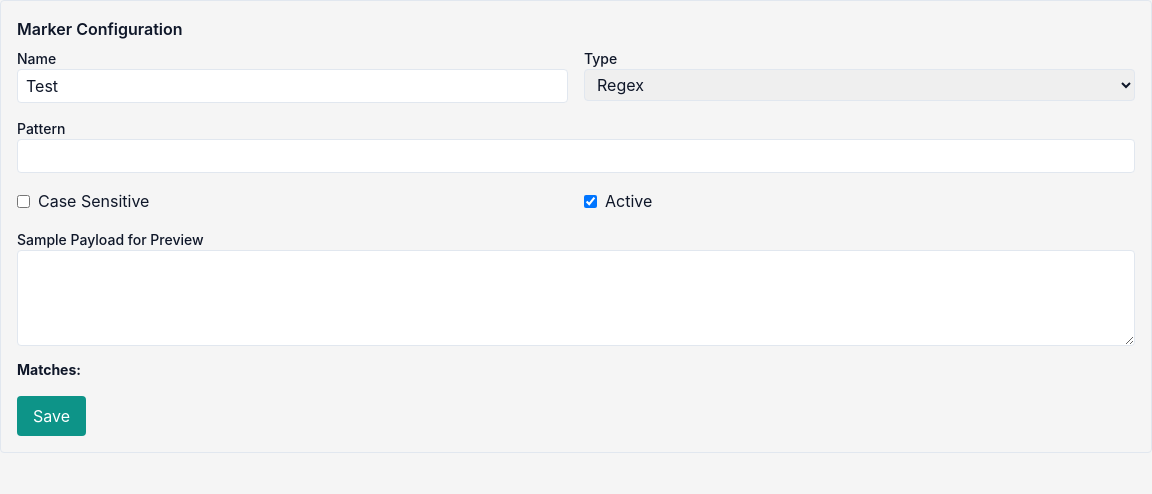
MarkerConfigForm validation › shows hex error for non-hex pattern and disables Save
# select hex type
Select "Hex" in the dropdown labelled "Type" at point(860, 85), box [584, 69, 1135, 101]
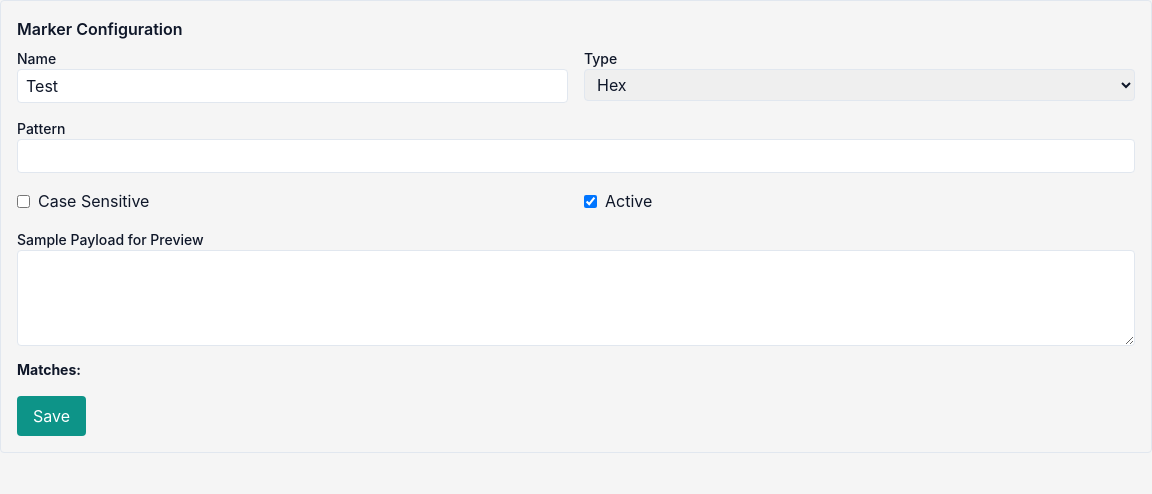
# enter invalid hex string
Type "GHI" into the field labelled "Pattern" at point(576, 156), box [17, 139, 1135, 173]
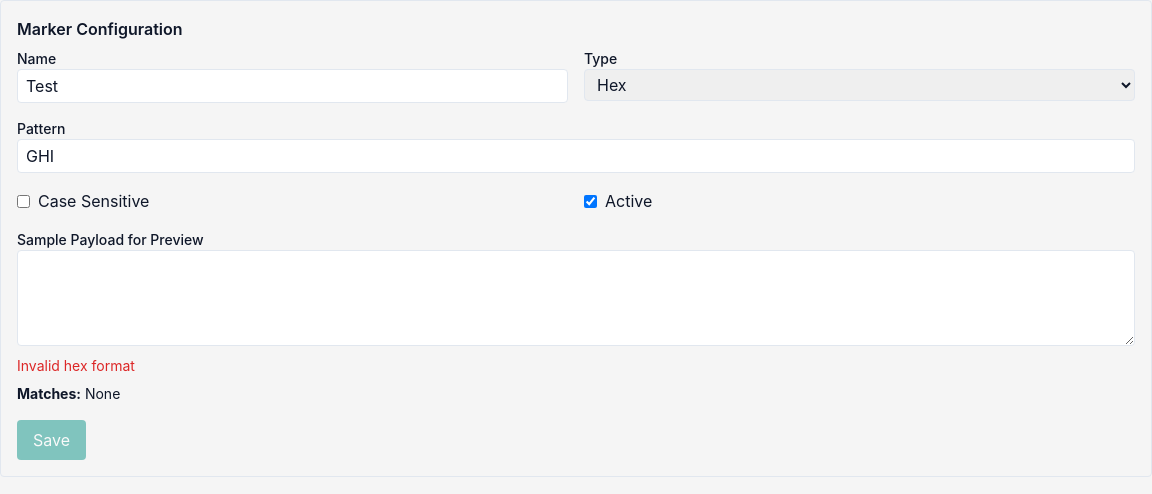
Now the text "Invalid hex format" is shown, box [17, 356, 135, 374]
Now the button "Save" is disabled, box [17, 420, 86, 460]
